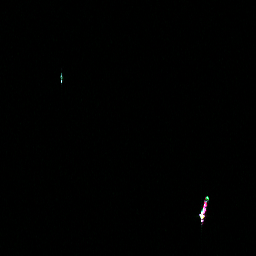ship: (196, 194, 210, 221)
